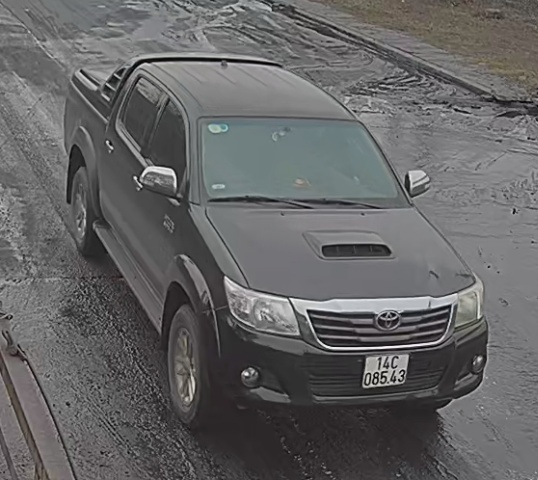vehicle plate: (359, 346, 415, 391)
